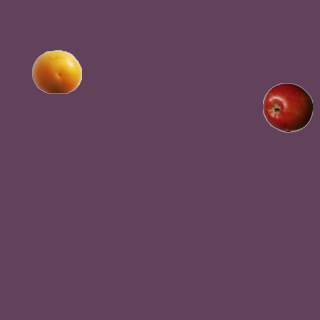Apple Braeburn: (262, 82, 312, 132)
Cherry Wax Yellow: (31, 46, 81, 96)
